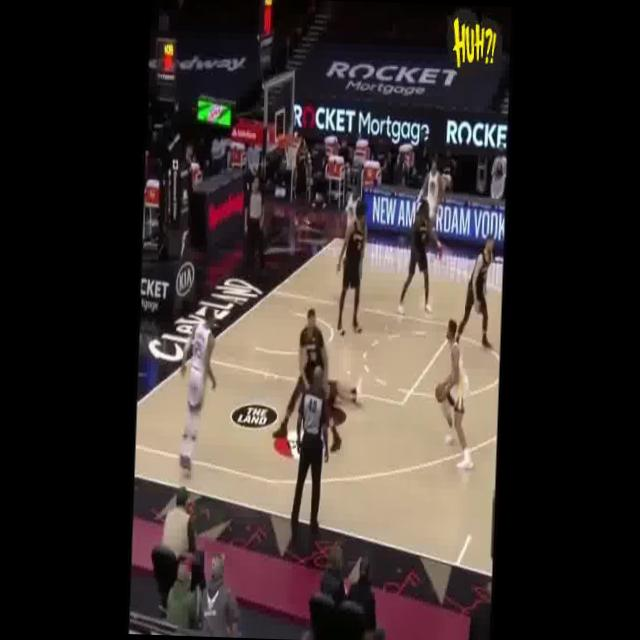ball-handler: (423, 305, 484, 475)
